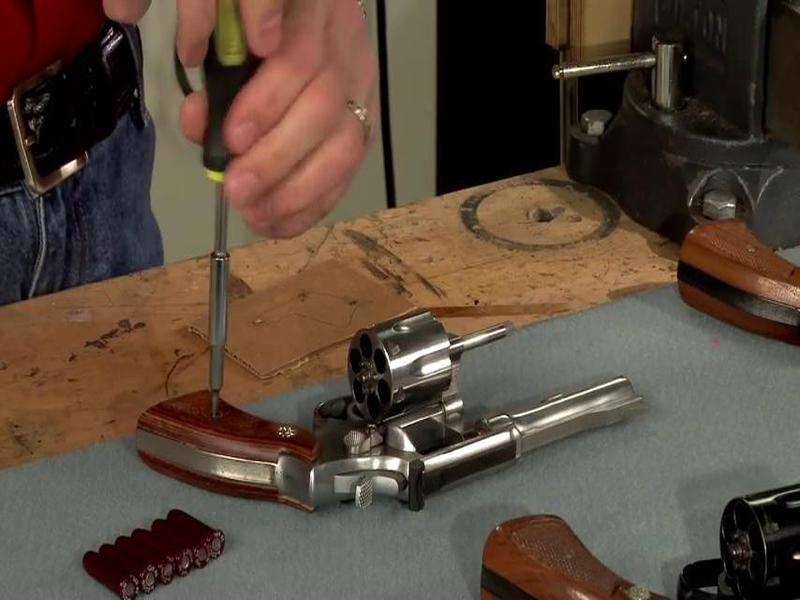Revolver: (131, 304, 649, 507)
